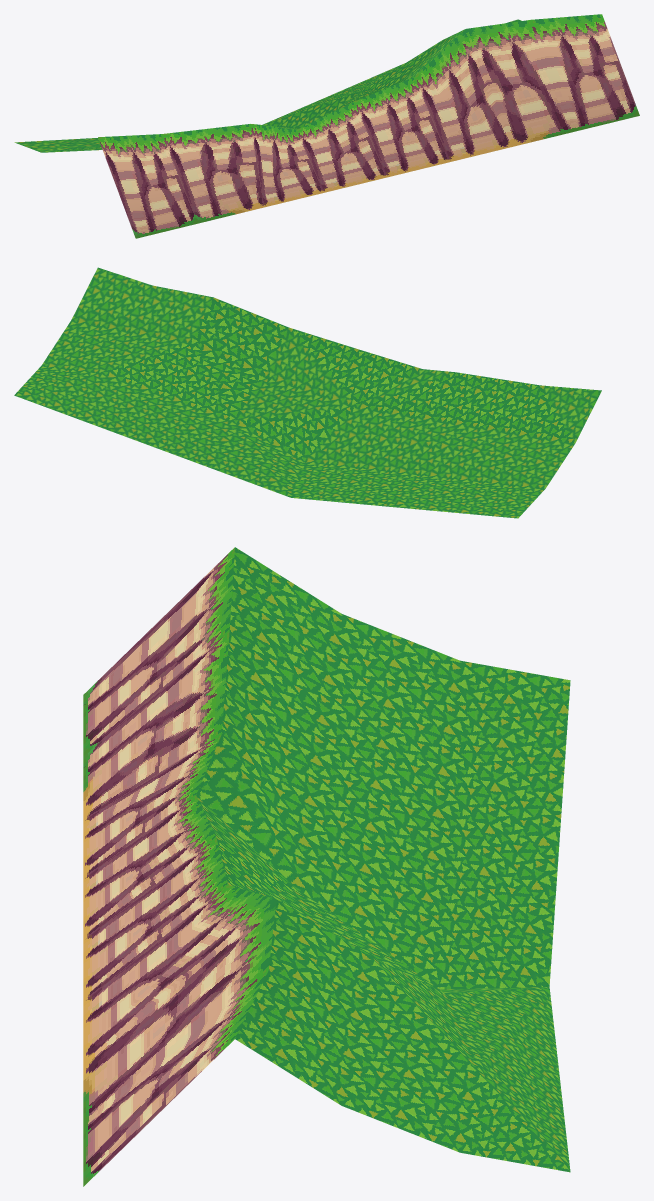
The model's file is c_grd_e1_1.001.glb.
3 views of the same model, one above another, from view 1: azimuth 30°, elevation 25°; view 2: azimuth 150°, elevation 25°; view 3: azimuth 270°, elevation 25° (orthographic). The views are drawn at different scales.
Visible parts, largest first — view 1: c_grd_e1_1.001; view 2: c_grd_e1_1.001; view 3: c_grd_e1_1.001.
Part boxes in pixels (left/top/right/bottom): c_grd_e1_1.001: left=14, top=14, right=639, bottom=238; c_grd_e1_1.001: left=14, top=267, right=601, bottom=518; c_grd_e1_1.001: left=83, top=547, right=570, bottom=1186.
Size of the model in its own units: 32 by 6.97 by 13.39.
4 materials, 4 textured.
